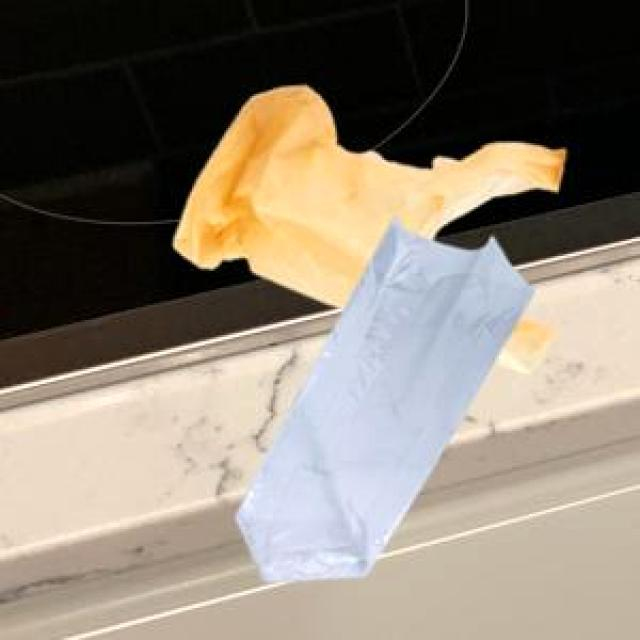Plastic_Bag: (172, 82, 562, 370), (234, 215, 530, 580)
